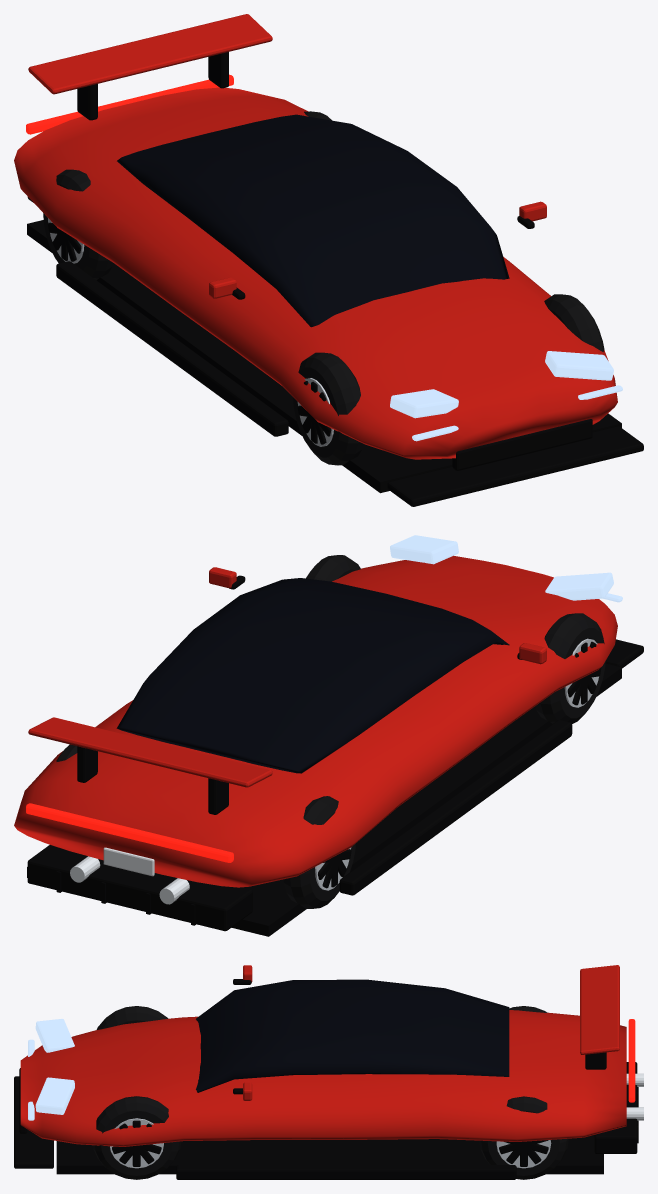
The model's file is car.glb.
The picture shows the model from 3 angles, top to bottom: view 1: azimuth 30°, elevation 25°; view 2: azimuth 150°, elevation 25°; view 3: azimuth 270°, elevation 25°; orthographic projection. The views are drawn at different scales.
Visible parts, largest first — view 1: Body, Glass, Floor, Wing, Splitter, SkirtL, TireFR, Grille, HeadR, TireFL, TireRR, HeadL (+1 smaller); view 2: Body, Glass, Floor, Diffuser, SkirtL, Wing, TireFR, TailBar, TireRR, HeadL, HeadR, TireFL (+4 smaller); view 3: Body, Glass, Floor, SkirtR, Wing, TireFL, TireRL, Splitter, Diffuser, HeadR, HeadL, TireFR (+4 smaller).
Part boxes in pixels (x1=…): Body: x1=14, y1=87, x2=617, y2=459; Glass: x1=117, y1=114, x2=509, y2=327; Floor: x1=27, y1=220, x2=621, y2=493; Wing: x1=28, y1=14, x2=272, y2=94; Splitter: x1=387, y1=426, x2=643, y2=506; SkirtL: x1=56, y1=261, x2=288, y2=436; TireFR: x1=293, y1=352, x2=363, y2=465; Grille: x1=452, y1=419, x2=592, y2=470; HeadR: x1=545, y1=351, x2=613, y2=380; TireFL: x1=544, y1=294, x2=604, y2=351; TireRR: x1=43, y1=169, x2=113, y2=280; HeadL: x1=390, y1=389, x2=458, y2=418; Body: x1=14, y1=555, x2=617, y2=887; Glass: x1=116, y1=578, x2=509, y2=773; Floor: x1=27, y1=663, x2=621, y2=936; Diffuser: x1=27, y1=845, x2=252, y2=931; SkirtL: x1=339, y1=720, x2=572, y2=895; Wing: x1=28, y1=717, x2=272, y2=787; TireFR: x1=535, y1=613, x2=605, y2=723; TailBar: x1=26, y1=803, x2=233, y2=862; TireRR: x1=283, y1=796, x2=355, y2=908; HeadL: x1=545, y1=572, x2=613, y2=600; HeadR: x1=390, y1=535, x2=458, y2=564; TireFL: x1=306, y1=555, x2=360, y2=581; Body: x1=20, y1=1010, x2=626, y2=1146; Glass: x1=196, y1=979, x2=509, y2=1092; Floor: x1=56, y1=1135, x2=603, y2=1174; SkirtR: x1=176, y1=1165, x2=516, y2=1179; Wing: x1=580, y1=965, x2=619, y2=1054; TireFL: x1=92, y1=1096, x2=181, y2=1179; TireRL: x1=479, y1=1096, x2=568, y2=1179; Splitter: x1=14, y1=1076, x2=53, y2=1168; Diffuser: x1=594, y1=1062, x2=637, y2=1153; HeadR: x1=35, y1=1077, x2=74, y2=1114; HeadL: x1=35, y1=1019, x2=74, y2=1052; TireFR: x1=96, y1=1006, x2=168, y2=1029.
Size of the model in its own units: 2.24 by 1.06 by 4.72.
